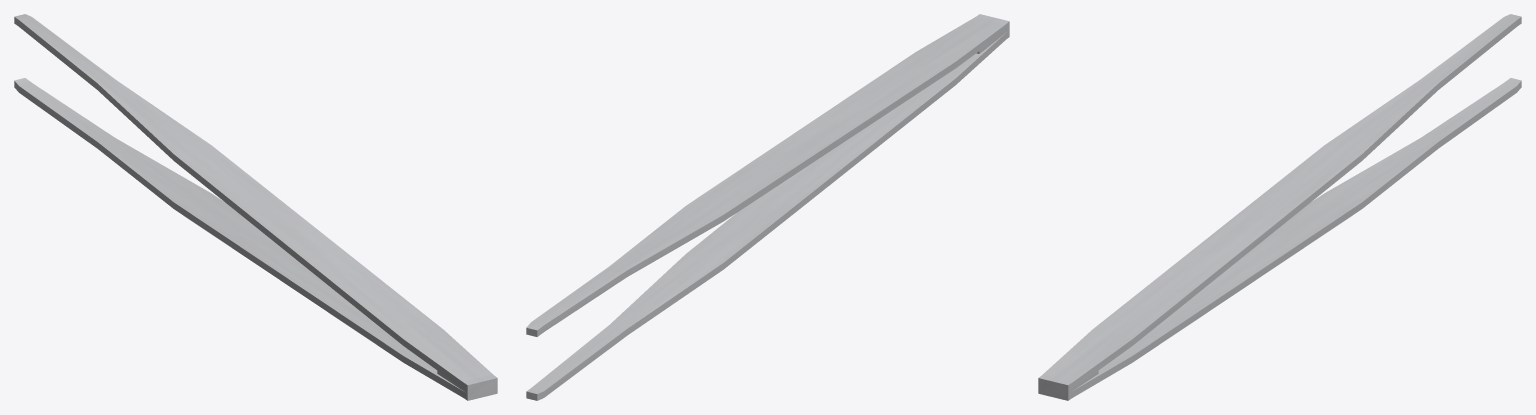
File: debakey_forceps.glb
3 renders of one model, left to right at view 1: azimuth 30°, elevation 25°; view 2: azimuth 150°, elevation 25°; view 3: azimuth 330°, elevation 25°, orthographic.
Parts seen in each view (by area): view 1: s5_debakey_forceps; view 2: s5_debakey_forceps; view 3: s5_debakey_forceps.
Part boxes in pixels (x1,y1,x2,y2): s5_debakey_forceps: [14, 14, 497, 400]; s5_debakey_forceps: [526, 14, 1009, 400]; s5_debakey_forceps: [1038, 14, 1521, 400].
Bounding box in the file's own units: 0.008 × 0.0139 × 0.1605.
1 material, 1 textured.
